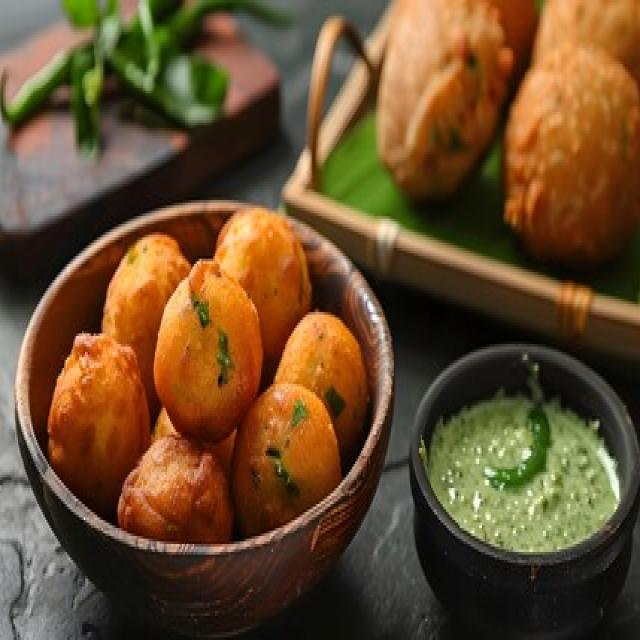BONDA: (46, 208, 368, 544)
WHITE CHUTNEY: (419, 389, 616, 552)
